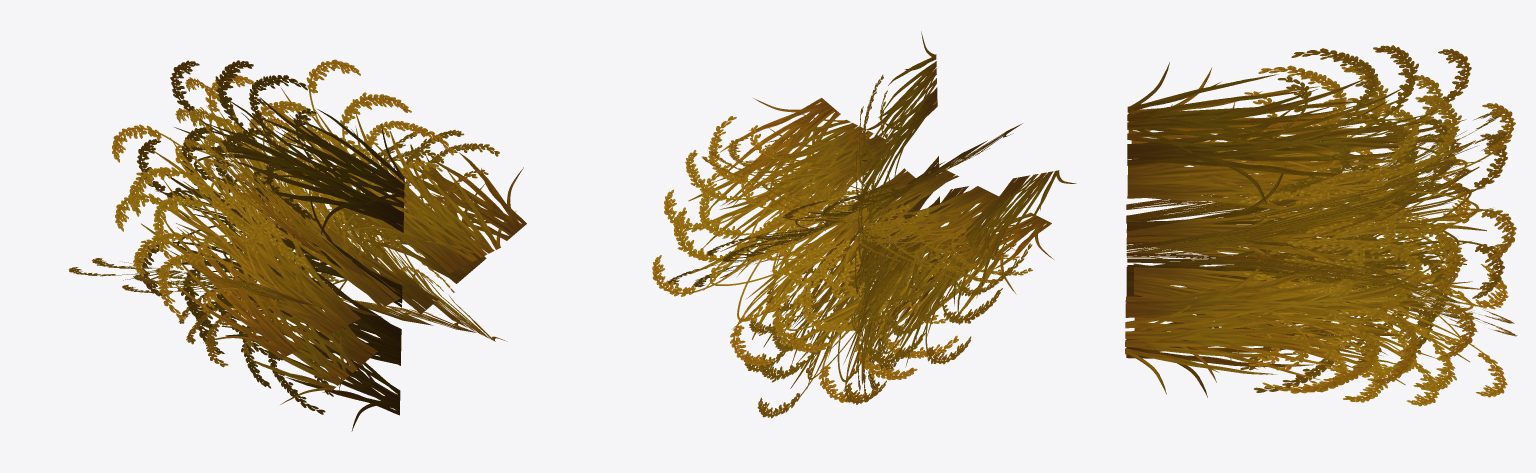
Rendered from Crop_1.fbx.
The picture shows the model from 3 angles, left to right: view 1: azimuth 30°, elevation 25°; view 2: azimuth 150°, elevation 25°; view 3: azimuth 270°, elevation 25°; orthographic projection. The views are drawn at different scales.
Visible parts, largest first — view 1: Crop_1; view 2: Crop_1; view 3: Crop_1.
Boxes of the visible parts, bbox=[...] form: Crop_1: bbox=[68, 59, 526, 431]; Crop_1: bbox=[652, 31, 1076, 418]; Crop_1: bbox=[1125, 45, 1517, 406].
Size of the model in its own units: 173 by 140 by 139.
